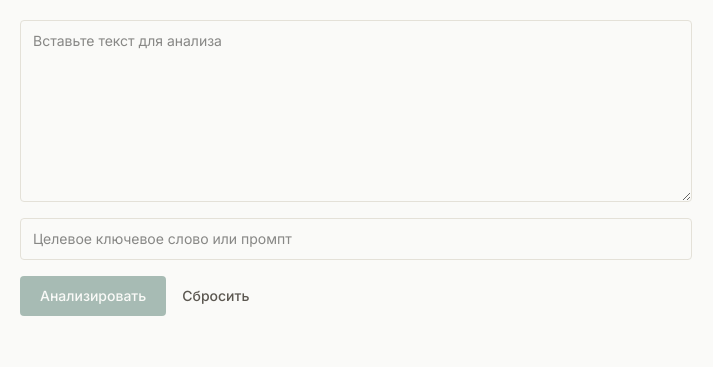
Scenario: TextModePanel › shows error message when worker returns an error
The width and height of the screenshot is (713, 367).
Step 1. Type "some text here" into the text box with placeholder "Вставьте текст для анализа" → x=356, y=111, box [20,20,692,202]
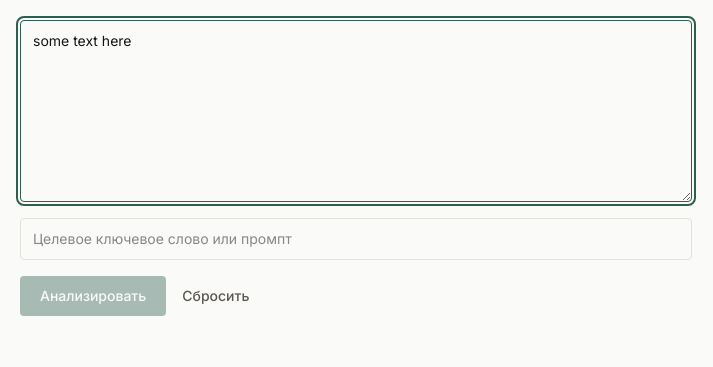
Step 2. Type "keyword" into the field with placeholder "Целевое ключевое слово или промпт" → x=356, y=239, box [20,218,692,260]
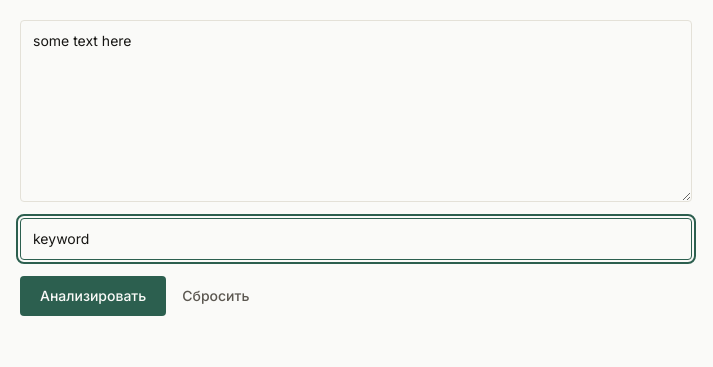
Step 3. Click the button "Анализировать" → x=93, y=296, box [20,276,166,316]
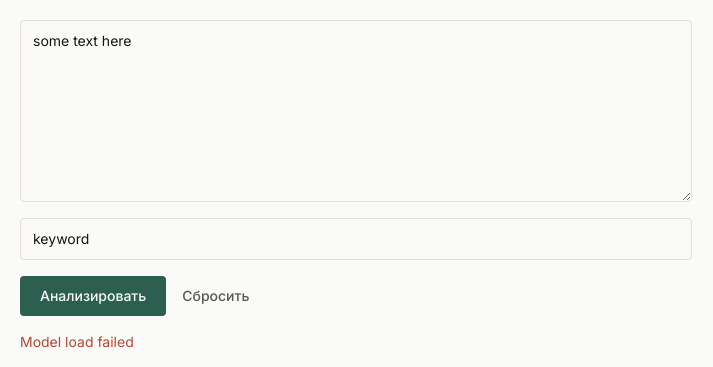
Expected: the message reads "Model load failed", [20,333,134,350]
